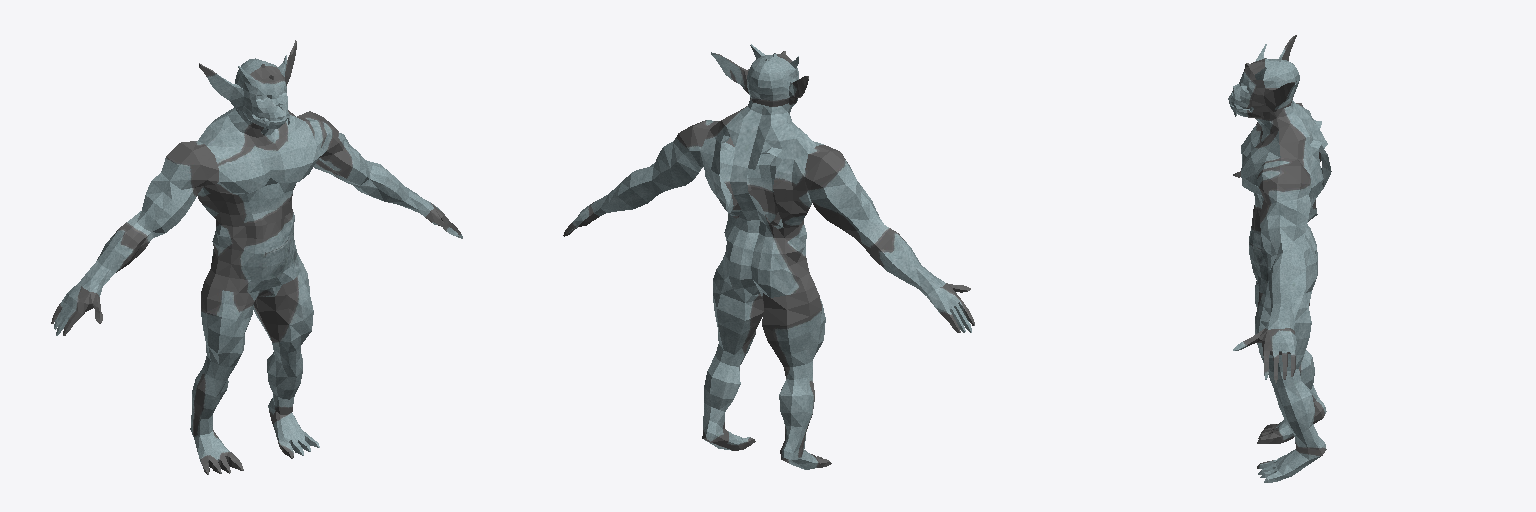
3 renders of one model, left to right at view 1: azimuth 30°, elevation 25°; view 2: azimuth 150°, elevation 25°; view 3: azimuth 270°, elevation 25°, orthographic.
Visible parts, largest first — view 1: Gargoyle_Body; view 2: Gargoyle_Body; view 3: Gargoyle_Body.
Part boxes in pixels (x1,y1,x2,y2): Gargoyle_Body: (51,40,462,474); Gargoyle_Body: (563,44,974,469); Gargoyle_Body: (1228,35,1331,482).
Bounding box in the file's own units: 67.47 × 64.05 × 14.97.
Materials: 1 (1 with a texture image).